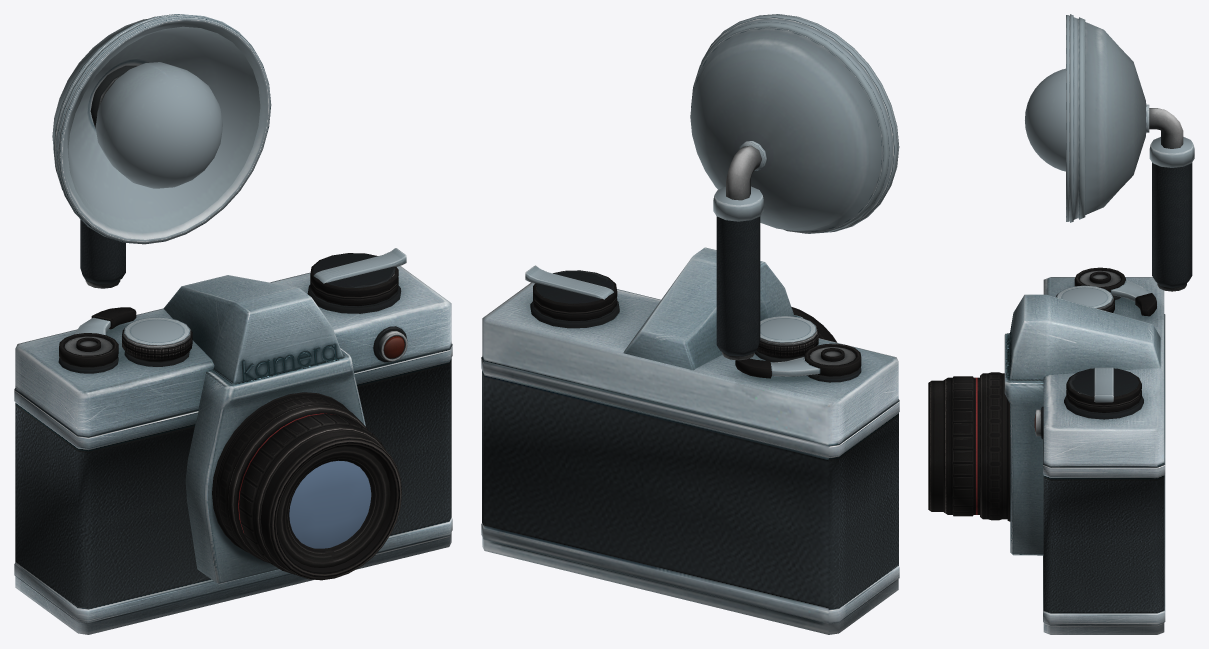
3 renders of one model, left to right at view 1: azimuth 30°, elevation 25°; view 2: azimuth 150°, elevation 25°; view 3: azimuth 270°, elevation 25°, orthographic. The views are drawn at different scales.
Parts seen in each view (by area): view 1: newKam_body.7, polySurface2.4, newKam_coreBase.6, polySurface1.3; view 2: newKam_body.7, polySurface2.4, newKam_coreBase.6; view 3: polySurface2.4, newKam_body.7, newKam_coreBase.6.
Boxes of the visible parts, x1,y1,x2,y2 form: newKam_body.7: (14, 266, 452, 634); polySurface2.4: (52, 14, 407, 580); newKam_coreBase.6: (163, 275, 365, 584); polySurface1.3: (67, 26, 260, 232); newKam_body.7: (481, 282, 899, 634); polySurface2.4: (525, 14, 899, 382); newKam_coreBase.6: (623, 247, 802, 370); polySurface2.4: (928, 14, 1194, 521); newKam_body.7: (1043, 277, 1165, 634); newKam_coreBase.6: (1004, 294, 1160, 555).
Bounding box in the file's own units: 2.6 × 3.79 × 1.84.
5 materials, 5 textured.
